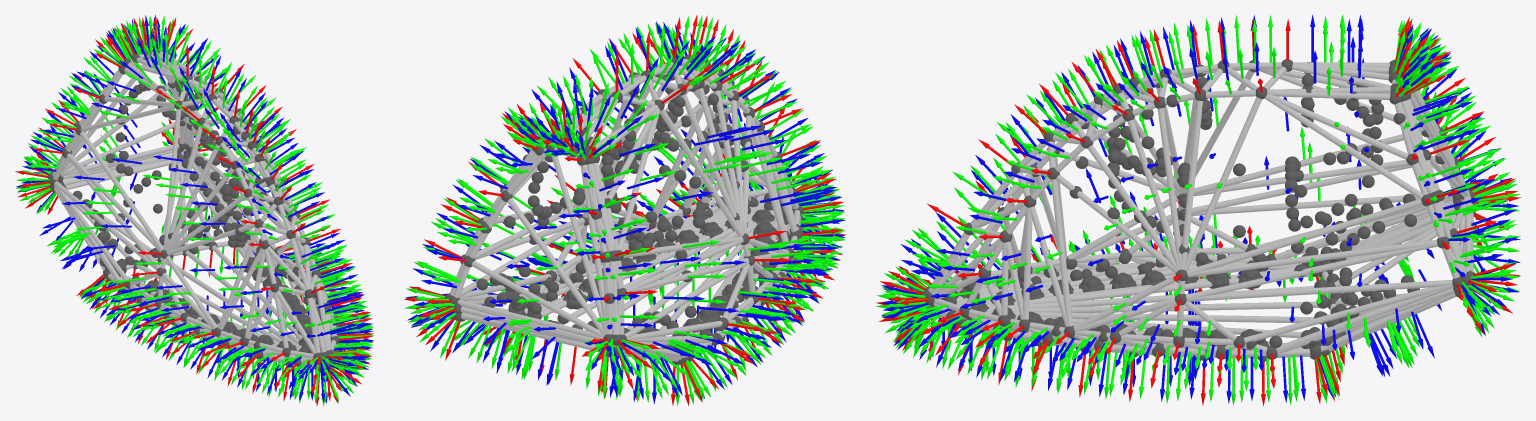
Rendered from onshape_iron.gltf.
3 renders of one model, left to right at view 1: azimuth 30°, elevation 25°; view 2: azimuth 150°, elevation 25°; view 3: azimuth 270°, elevation 25°, orthographic. The views are drawn at different scales.
Bounding box in the file's own units: 0.4967 × 0.5797 × 1.
